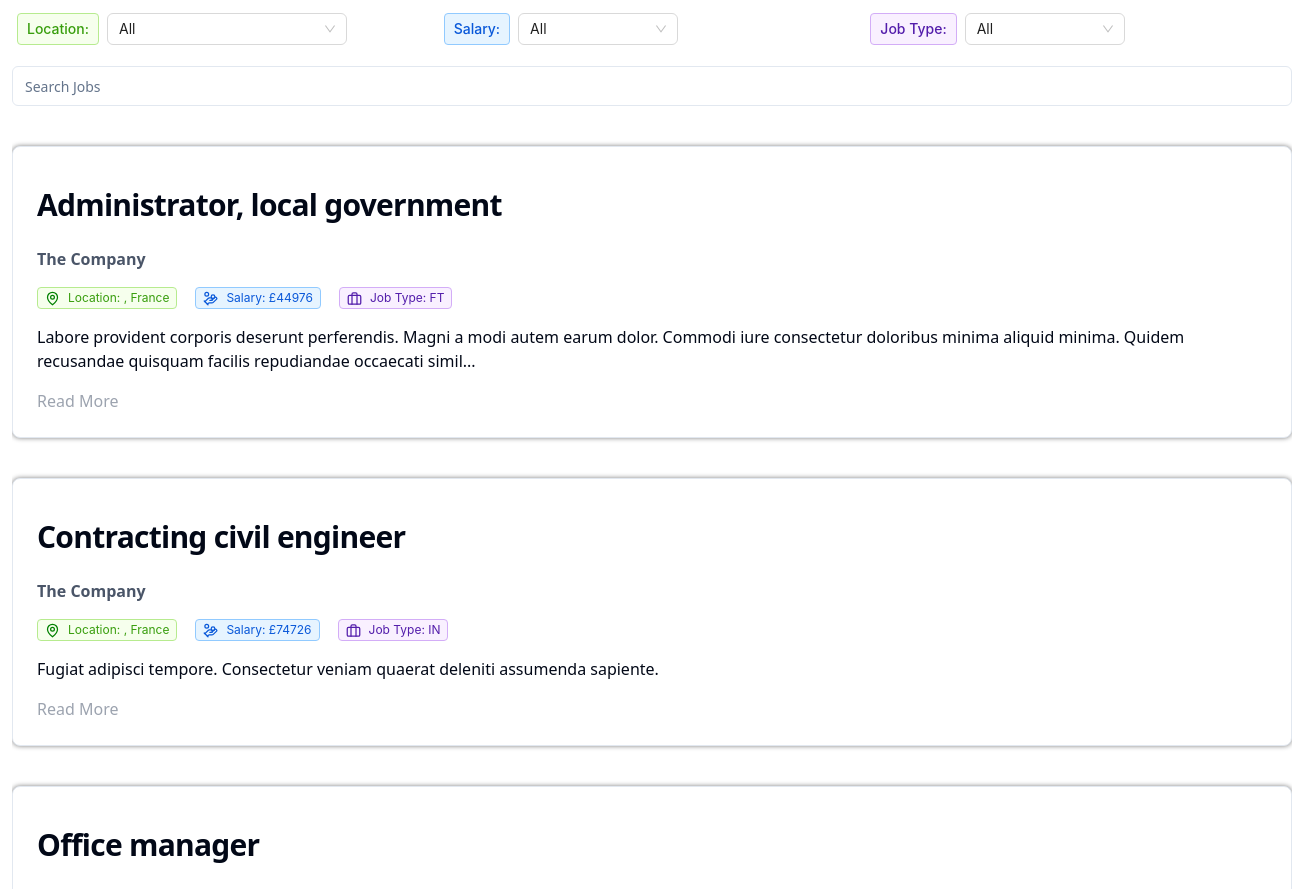
JobFilter component › Location filters correctly
The image size is (1304, 889).
Type "France" into the dropdown at [218, 29], box [119,14,317,44]
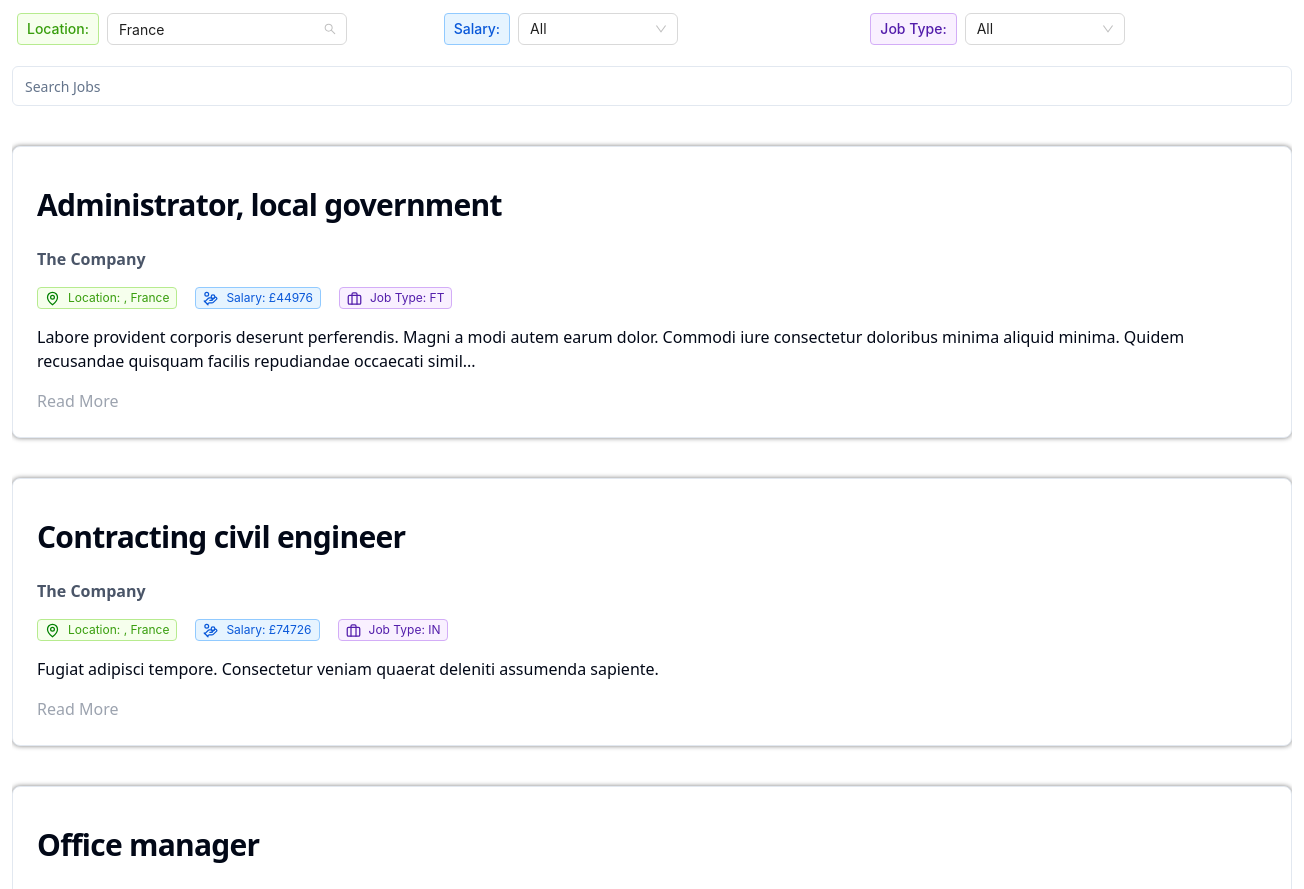
Press Enter in the dropdown, box [119,14,317,44]
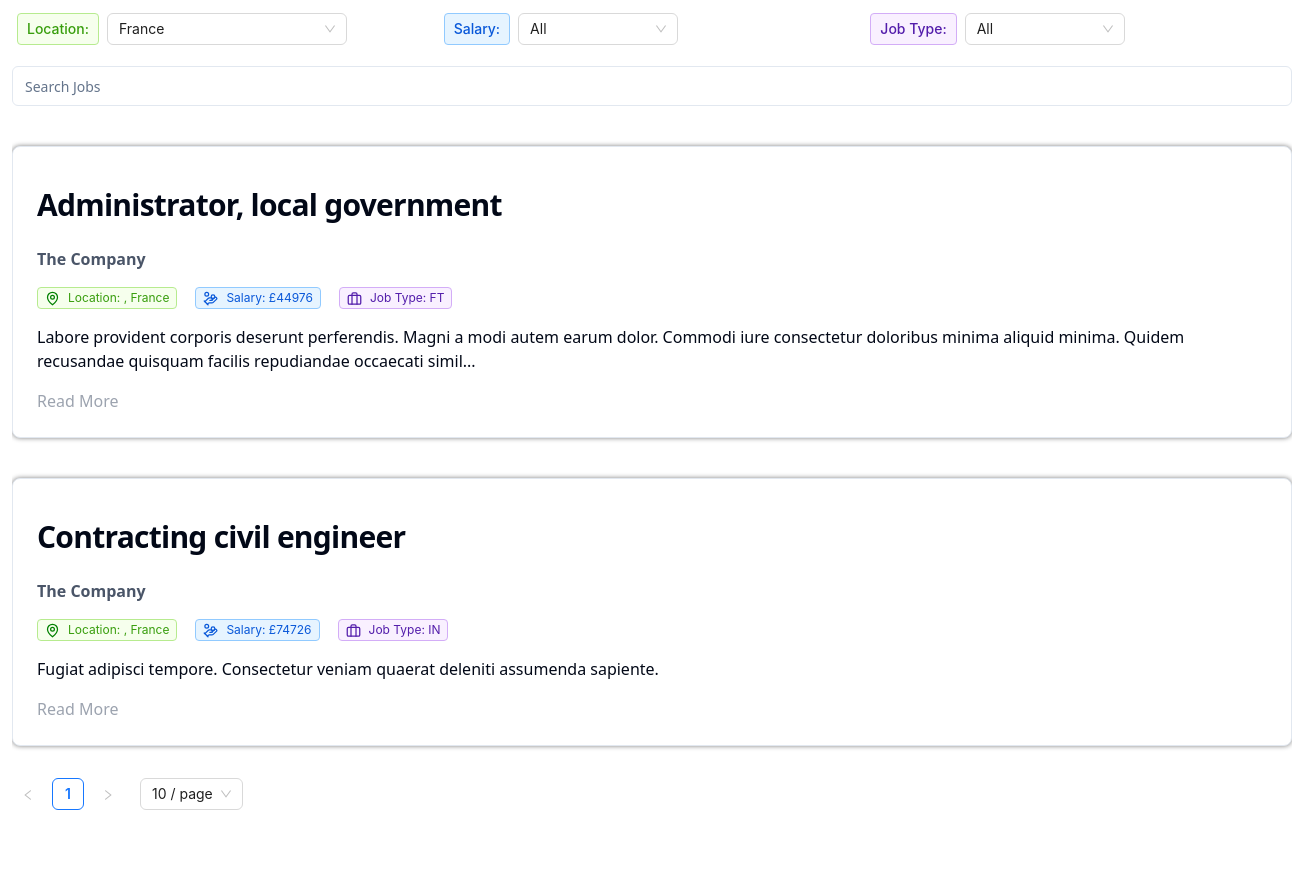
Expected: the heading "Contracting civil engineer" is shown, [37,516,405,557]
Now the number of lists is 3, box [12,146,1292,438]; [12,478,1292,746]; [12,778,243,810]
